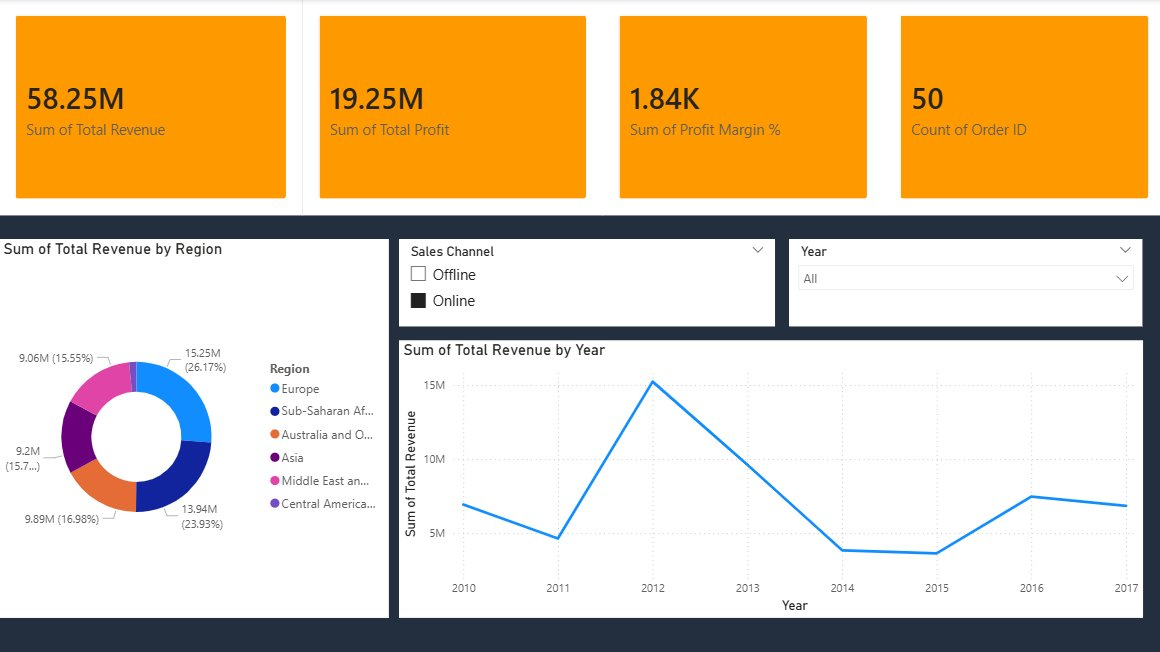

This screenshot's page, from the dashboard's own definition file:
{"tool":"powerbi","page":{"name":"Executive Summary","canvas":[1280,720],"ordinal":2},"visuals":[{"type":"cardVisual","fields":{"Data":["Sum(Amazon_Sales_Clean.Total Revenue)"]},"box":[0,0,333.4,237.4],"z":0},{"type":"cardVisual","fields":{"Data":["Sum(Amazon_Sales_Clean.Total Profit)"]},"box":[333.4,0,329.3,237.4],"z":1000},{"type":"cardVisual","fields":{"Data":["Sum(Amazon_Sales_Clean.Profit Margin %)"]},"box":[662.8,0,308.7,237.4],"z":2000},{"type":"cardVisual","fields":{"Data":["CountNonNull(Amazon_Sales_Clean.Order ID)"]},"box":[971.5,0,308.7,237.4],"z":3000},{"type":"donutChart","fields":{"Category":["Amazon_Sales_Clean.Region"],"Y":["Sum(Amazon_Sales_Clean.Total Revenue)"]},"box":[0,263.5,428.1,415.8],"z":4000},{"type":"slicer","fields":{"Values":["Amazon_Sales_Clean.Order Date.Variation.Date Hierarchy.Year"]},"box":[867.2,263.5,388.3,96.1],"z":5000},{"type":"slicer","fields":{"Values":["Amazon_Sales_Clean.Sales Channel"]},"box":[439.1,263.5,413,96.1],"z":6000},{"type":"lineChart","fields":{"Category":["Amazon_Sales_Clean.Order Date.Variation.Date Hierarchy.Year"],"Y":["Sum(Amazon_Sales_Clean.Total Revenue)"]},"box":[439.1,374.6,816.5,304.6],"z":7000}]}

Visuals, with their boxes in screenshot pixels (x1, y1, x2, y2), scaled from the page's 1280x720 canvas onto the 1160x652 screenshot:
cardVisual - Sum(Amazon_Sales_Clean.Total Revenue): [left=0, top=0, right=302, bottom=215]
cardVisual - Sum(Amazon_Sales_Clean.Total Profit): [left=302, top=0, right=601, bottom=215]
cardVisual - Sum(Amazon_Sales_Clean.Profit Margin %): [left=601, top=0, right=880, bottom=215]
cardVisual - CountNonNull(Amazon_Sales_Clean.Order ID): [left=880, top=0, right=1159, bottom=215]
donutChart - Amazon_Sales_Clean.Region x Sum(Amazon_Sales_Clean.Total Revenue): [left=0, top=239, right=388, bottom=615]
slicer - Amazon_Sales_Clean.Order Date.Variation.Date Hierarchy.Year: [left=786, top=239, right=1138, bottom=326]
slicer - Amazon_Sales_Clean.Sales Channel: [left=398, top=239, right=772, bottom=326]
lineChart - Amazon_Sales_Clean.Order Date.Variation.Date Hierarchy.Year x Sum(Amazon_Sales_Clean.Total Revenue): [left=398, top=339, right=1138, bottom=615]
